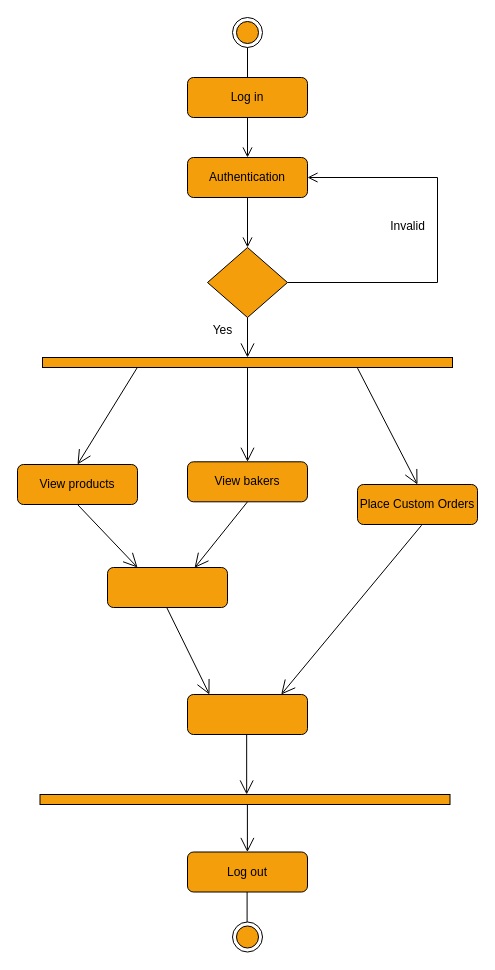
This 495x970 diagram has some shape labels left out. The shapes that lost their labels are listed below. From the top down, each one's centre as x and y in pixels, then its label:
the point at 247,282: Check
the point at 167,587: Purchase products
the point at 247,714: Track orders
